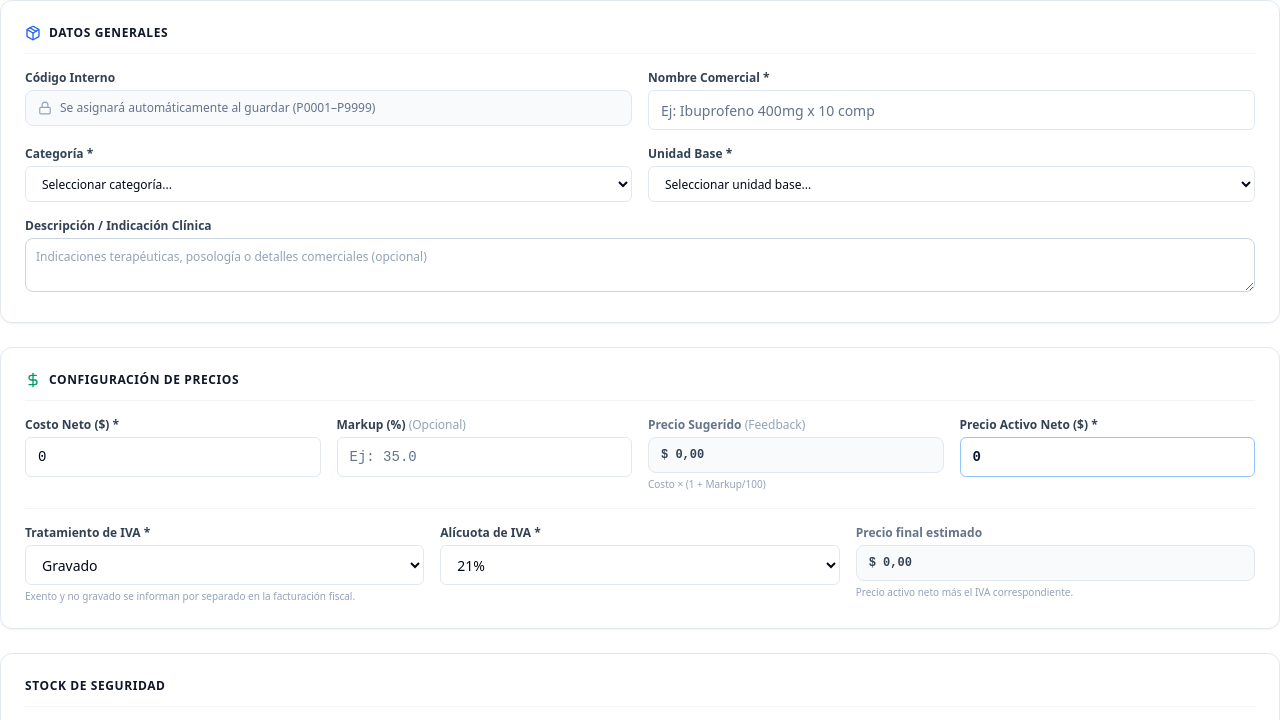
Scenario: ProductForm › explains automatic code assignment in create mode and calculates suggested price
This screenshot has width=1280, height=720.
Expected: the text "Se asignará automáticamente al guardar (P0001–P9999)" is shown, [60,100,375,116]
Replace the text in the number field labelled "Costo Neto ($) *" with "2000" at x=173, y=457, box [25,437,320,477]
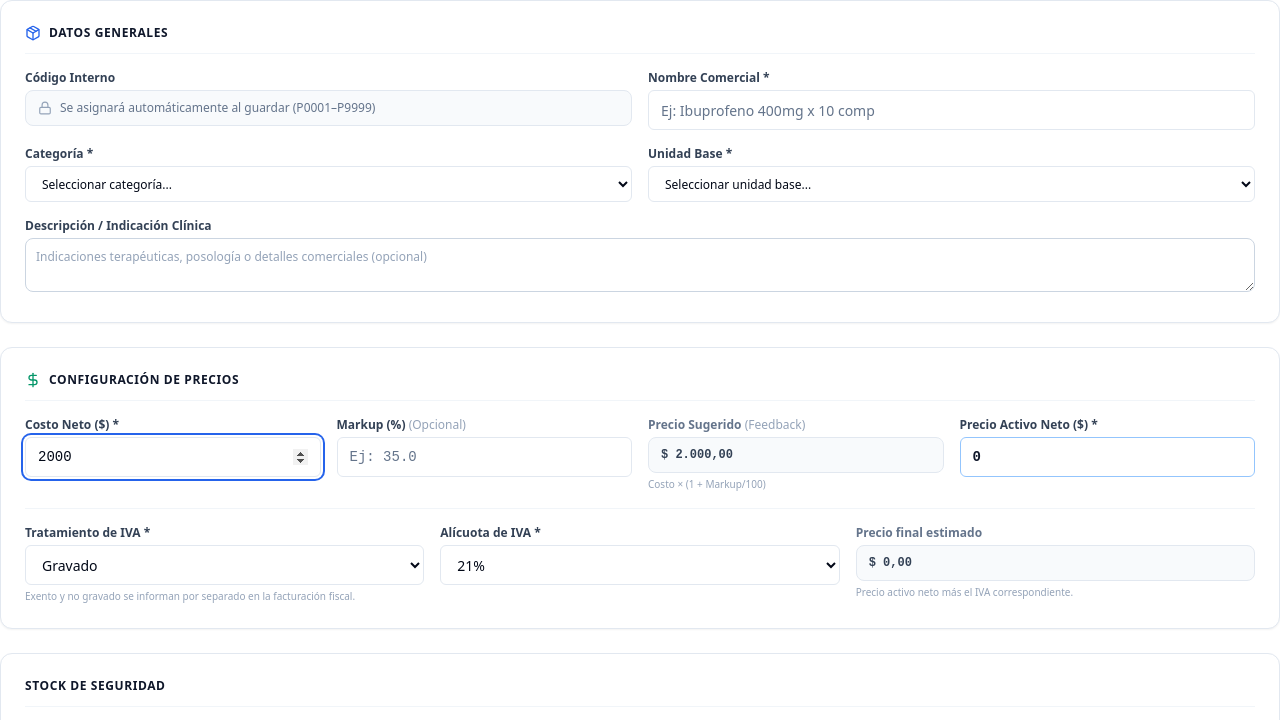
Type "50" into the number field labelled "Markup (%) (Opcional)" at x=484, y=457, box [336,437,632,477]
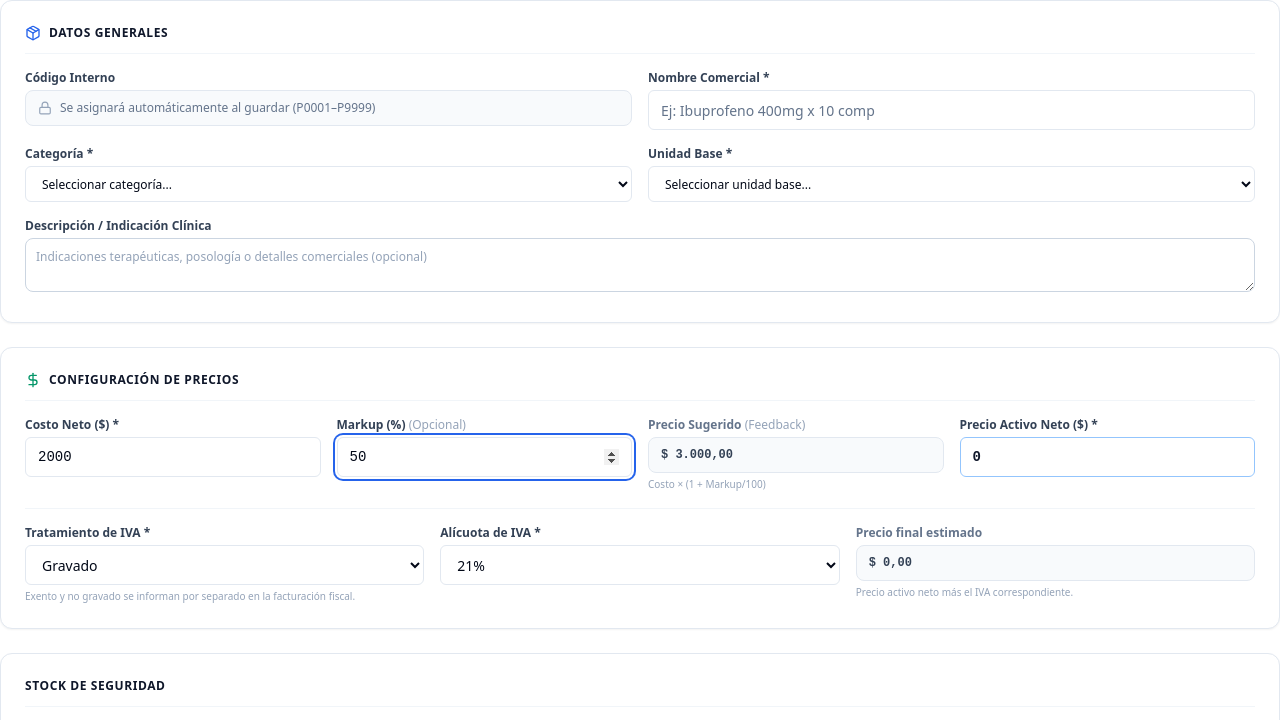
Now the text "$ 3.000,00" is shown, box [648,437,944,473]
